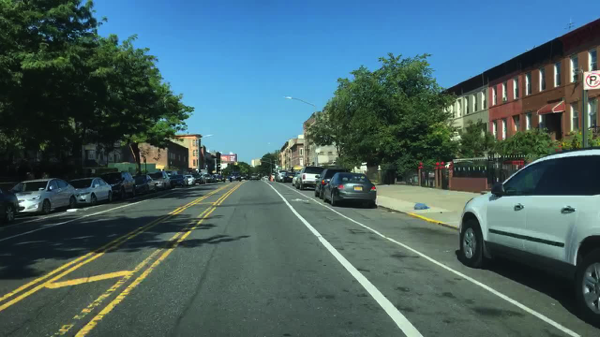car: (459, 147, 599, 322), (10, 177, 77, 216), (323, 172, 377, 207), (67, 176, 113, 206), (96, 171, 135, 199), (313, 168, 349, 198), (0, 183, 20, 224), (296, 165, 325, 191), (132, 173, 154, 194), (145, 172, 170, 190), (170, 174, 187, 187), (276, 169, 286, 182), (282, 172, 295, 182), (184, 175, 195, 185), (230, 172, 241, 182), (202, 174, 212, 184), (194, 172, 202, 184), (292, 172, 299, 185), (250, 173, 258, 182), (270, 173, 275, 183), (218, 176, 226, 182), (212, 174, 218, 182), (241, 174, 248, 180), (261, 176, 268, 182), (225, 176, 229, 183)
traffic sign: (583, 71, 599, 89)
